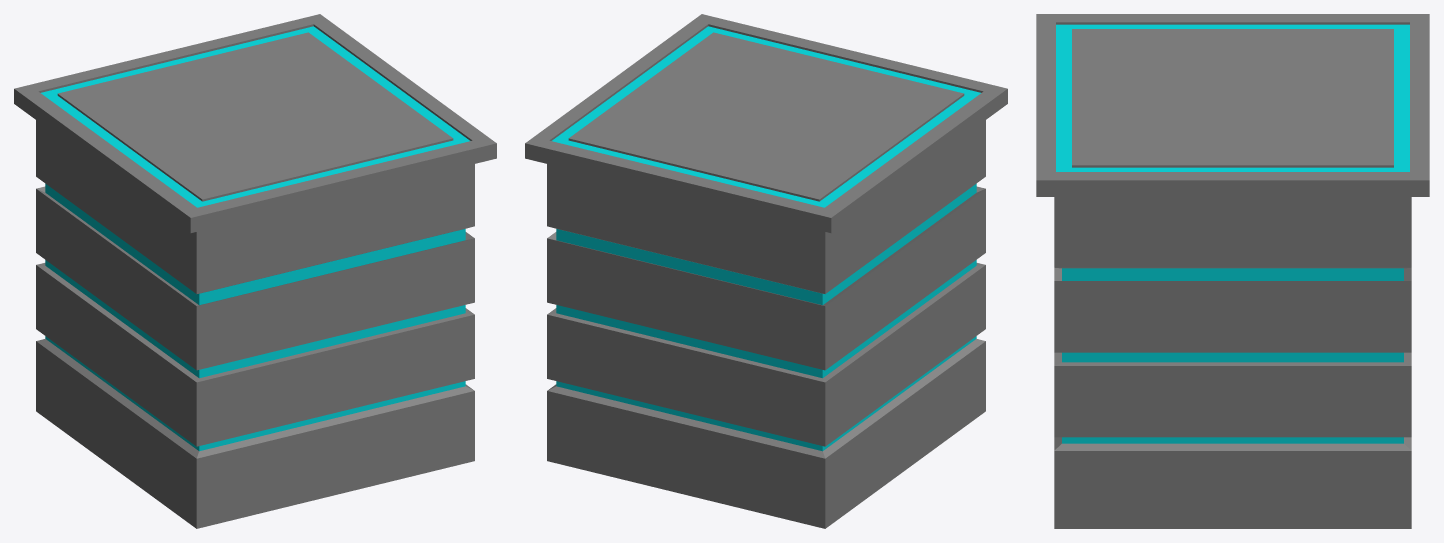
File: Box_Single.fbx
The picture shows the model from 3 angles, left to right: view 1: azimuth 30°, elevation 25°; view 2: azimuth 150°, elevation 25°; view 3: azimuth 270°, elevation 25°; orthographic projection. The views are drawn at different scales.
Visible parts, largest first — view 1: Box_Single; view 2: Box_Single; view 3: Box_Single.
Part boxes in pixels (bbox=[...]): Box_Single: bbox=[14, 14, 496, 528]; Box_Single: bbox=[525, 14, 1007, 528]; Box_Single: bbox=[1036, 14, 1429, 528].
Size of the model in its own units: 200 by 200 by 200.
